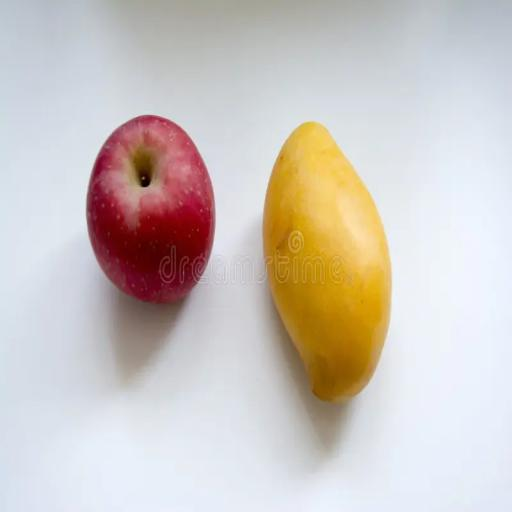apple: (87, 116, 215, 302)
mango: (263, 122, 391, 401)
